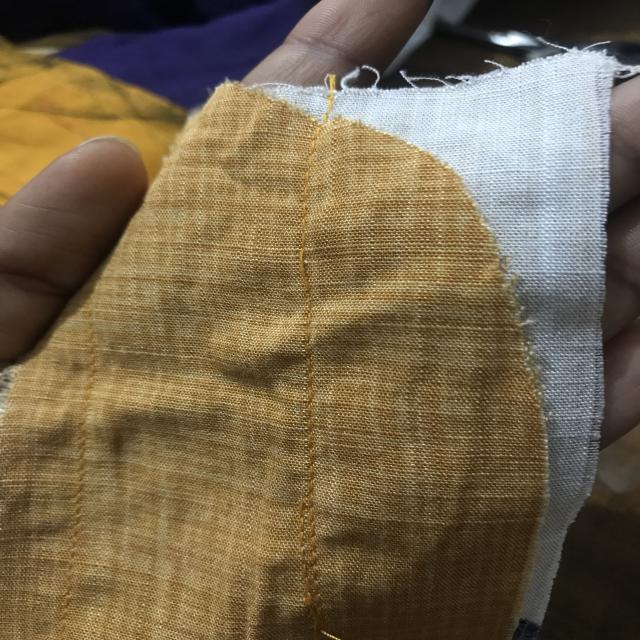skip: (273, 238, 326, 297)
